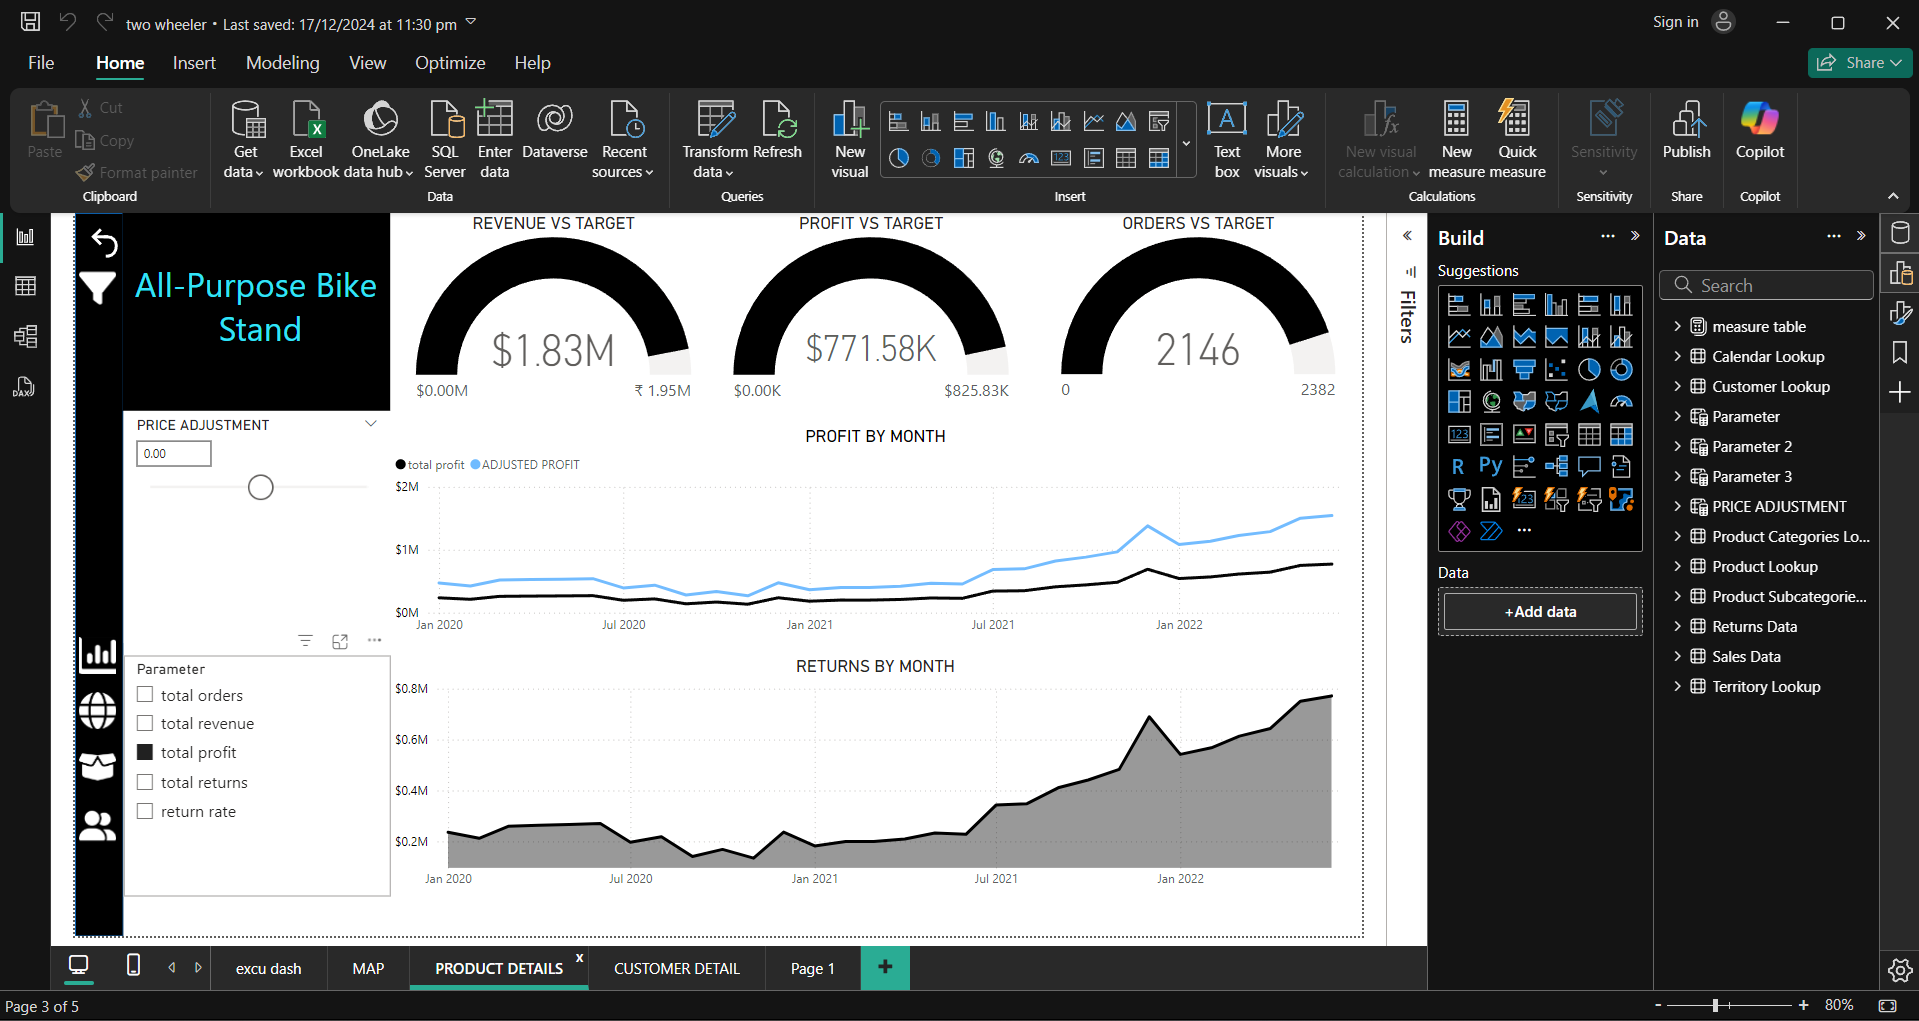

This screenshot's page, from the dashboard's own definition file:
{"tool":"powerbi","page":{"name":"PRODUCT DETAILS ","canvas":[1280,720],"ordinal":2},"visuals":[{"type":"shape","box":[0,0,48.3,720],"z":0},{"type":"gauge","title":"ORDERS VS TARGET","fields":{"Y":["measure table.total orders"],"MaxValue":["measure table.order target"]},"box":[954.9,0,325.4,197.2],"z":1000},{"type":"gauge","title":"REVENUE VS TARGET","fields":{"Y":["measure table.total revenue"],"MaxValue":["measure table.revenue target"]},"box":[313.5,0,325.9,197.8],"z":2000},{"type":"gauge","title":"PROFIT VS TARGET ","fields":{"Y":["measure table.total profit"],"MaxValue":["measure table.profit target"]},"box":[629.4,0,325.9,197.8],"z":3000},{"type":"stackedAreaChart","title":"PROFIT BY MONTH","fields":{"Category":["Calendar Lookup.Start of Month"],"Y":["measure table.total profit","measure table.ADJUSTED PROFIT"]},"box":[313.4,211.5,966.6,216.4],"z":4000},{"type":"stackedAreaChart","title":"RETURNS BY MONTH","fields":{"Y":["measure table.total profit"],"Category":["Calendar Lookup.Start of Month"]},"box":[313.5,440.5,966.2,240.5],"z":5000},{"type":"card","fields":{"Values":["Min(Product Lookup.ProductName)"]},"box":[47.9,0,266.2,197.2],"z":6000},{"type":"actionButton","box":[0,473.2,47.9,45.1],"z":7000},{"type":"actionButton","box":[0,418.3,47.9,45.1],"z":8000},{"type":"actionButton","box":[0,587.3,47.9,45.1],"z":9000},{"type":"actionButton","box":[0,528.2,47.9,45.1],"z":10000},{"type":"actionButton","box":[10,10,47.9,39.4],"z":11000},{"type":"actionButton","box":[0,52.1,47.9,45.1],"z":12000},{"type":"slicer","fields":{"Values":["Parameter.Parameter"]},"box":[48.6,197.3,264.9,229.7],"z":13000},{"type":"slicer","fields":{"Values":["Parameter 2.Parameter"]},"box":[48.5,440.4,265,240.1],"z":14000}]}

Visuals, with their boxes on the page's 1280x720 design canvas (x1, y1, x2, y2). These are canvas units, not pixel positions in the 1919x1021 screenshot, which may show the page scaled, cropped or inside an application window:
shape: x1=0 y1=0 x2=48 y2=720
"ORDERS VS TARGET" gauge: x1=955 y1=0 x2=1280 y2=197
"REVENUE VS TARGET" gauge: x1=314 y1=0 x2=639 y2=198
"PROFIT VS TARGET " gauge: x1=629 y1=0 x2=955 y2=198
"PROFIT BY MONTH" stackedAreaChart: x1=313 y1=212 x2=1280 y2=428
"RETURNS BY MONTH" stackedAreaChart: x1=314 y1=440 x2=1280 y2=681
card - Min(Product Lookup.ProductName): x1=48 y1=0 x2=314 y2=197
actionButton: x1=0 y1=473 x2=48 y2=518
actionButton: x1=0 y1=418 x2=48 y2=463
actionButton: x1=0 y1=587 x2=48 y2=632
actionButton: x1=0 y1=528 x2=48 y2=573
actionButton: x1=10 y1=10 x2=58 y2=49
actionButton: x1=0 y1=52 x2=48 y2=97
slicer - Parameter.Parameter: x1=49 y1=197 x2=314 y2=427
slicer - Parameter 2.Parameter: x1=48 y1=440 x2=314 y2=680
